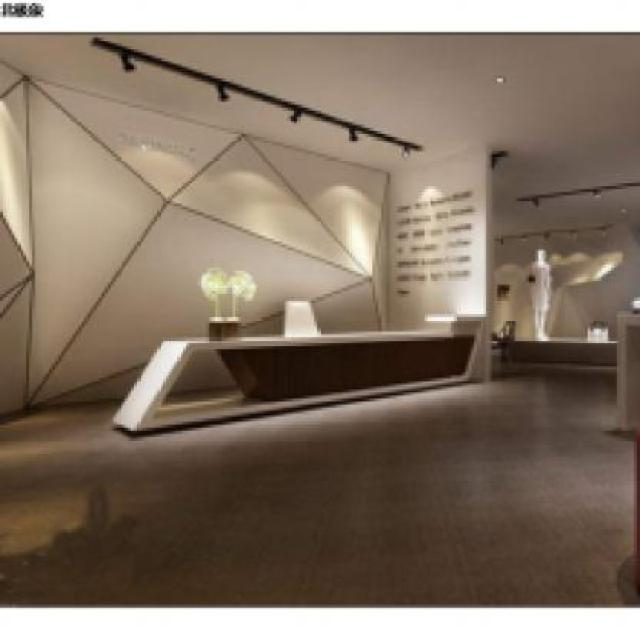frontdesk: (104, 297, 498, 451)
